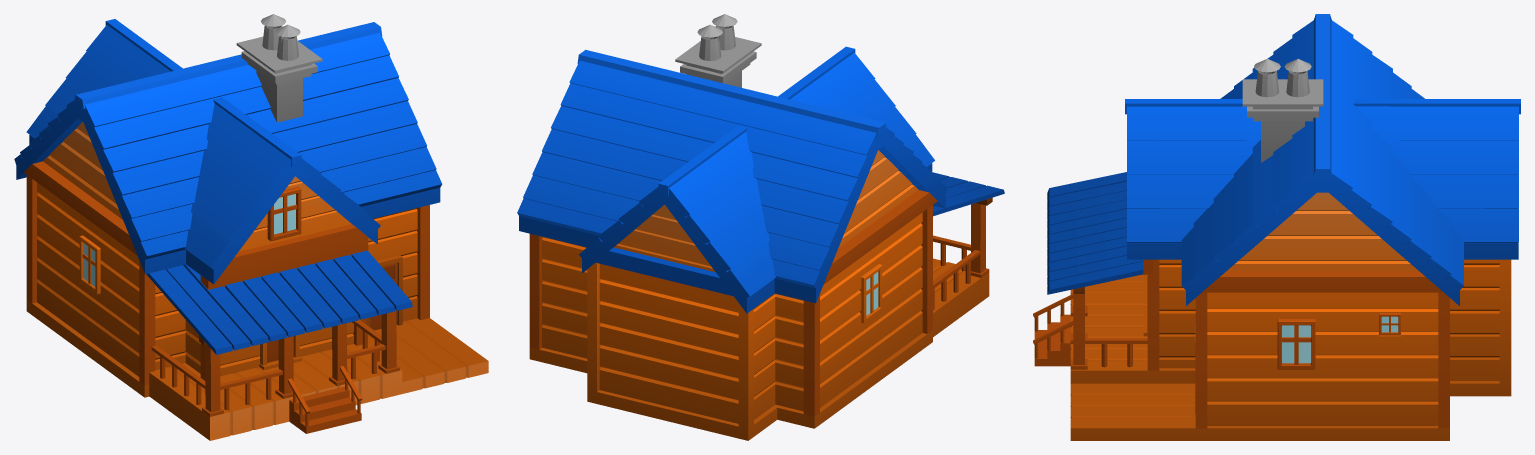
The model's file is Farm_House_Wooden_House_01.fbx.
3 views of the same model, side by side, from view 1: azimuth 30°, elevation 25°; view 2: azimuth 150°, elevation 25°; view 3: azimuth 270°, elevation 25° (orthographic). The views are drawn at different scales.
Visible parts, largest first — view 1: Farm_House_Wooden_House_01; view 2: Farm_House_Wooden_House_01; view 3: Farm_House_Wooden_House_01.
Boxes of the visible parts, x1=… form: Farm_House_Wooden_House_01: x1=14, y1=14, x2=488, y2=440; Farm_House_Wooden_House_01: x1=517, y1=14, x2=1004, y2=440; Farm_House_Wooden_House_01: x1=1033, y1=14, x2=1520, y2=440.
Size of the model in its own units: 1260 by 1238 by 1678.
